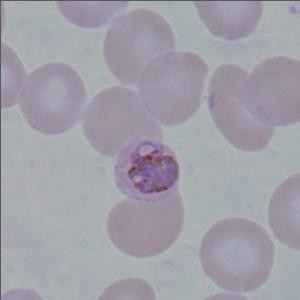Infected: (112, 136, 180, 202)
Uninfected: (208, 62, 274, 152), (198, 217, 272, 294), (104, 187, 183, 259), (104, 9, 175, 87), (84, 87, 162, 157), (139, 49, 207, 125), (235, 53, 300, 128), (21, 63, 86, 137)
